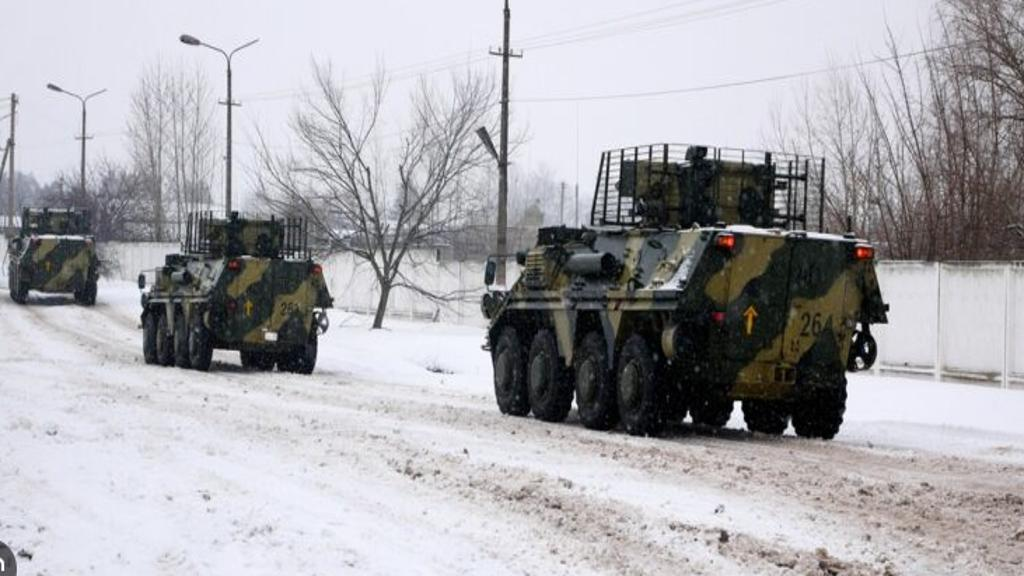APC-IFV: (480, 139, 887, 447), (132, 207, 323, 375), (1, 203, 101, 306)
